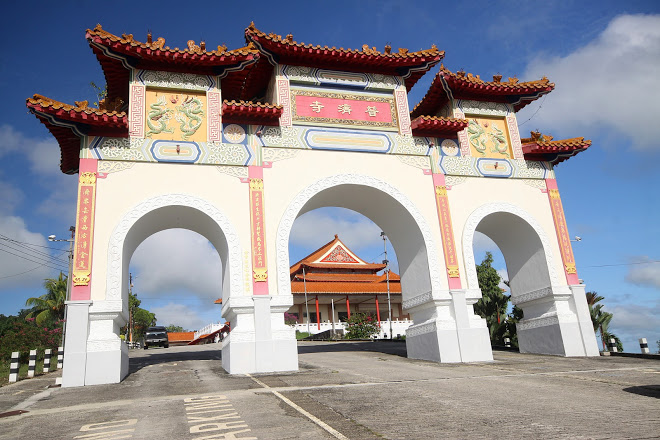Buddhist Temple: (61, 28, 577, 347)
